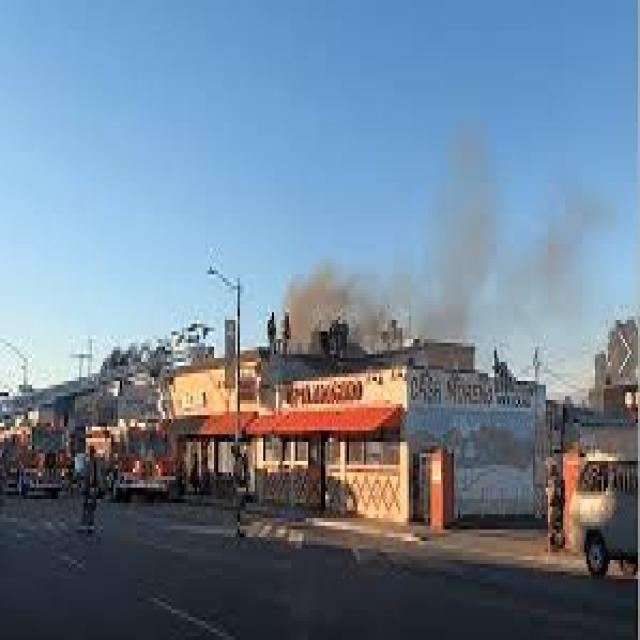Smoke: (278, 121, 618, 341)
